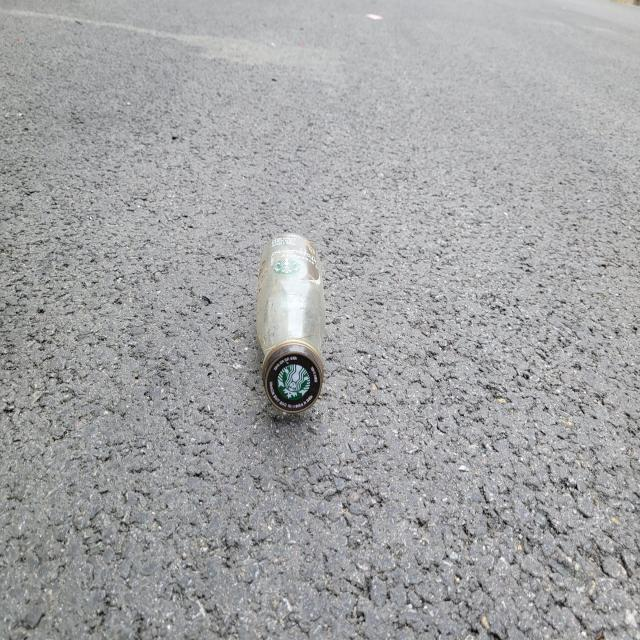glass: (257, 233, 325, 413)
